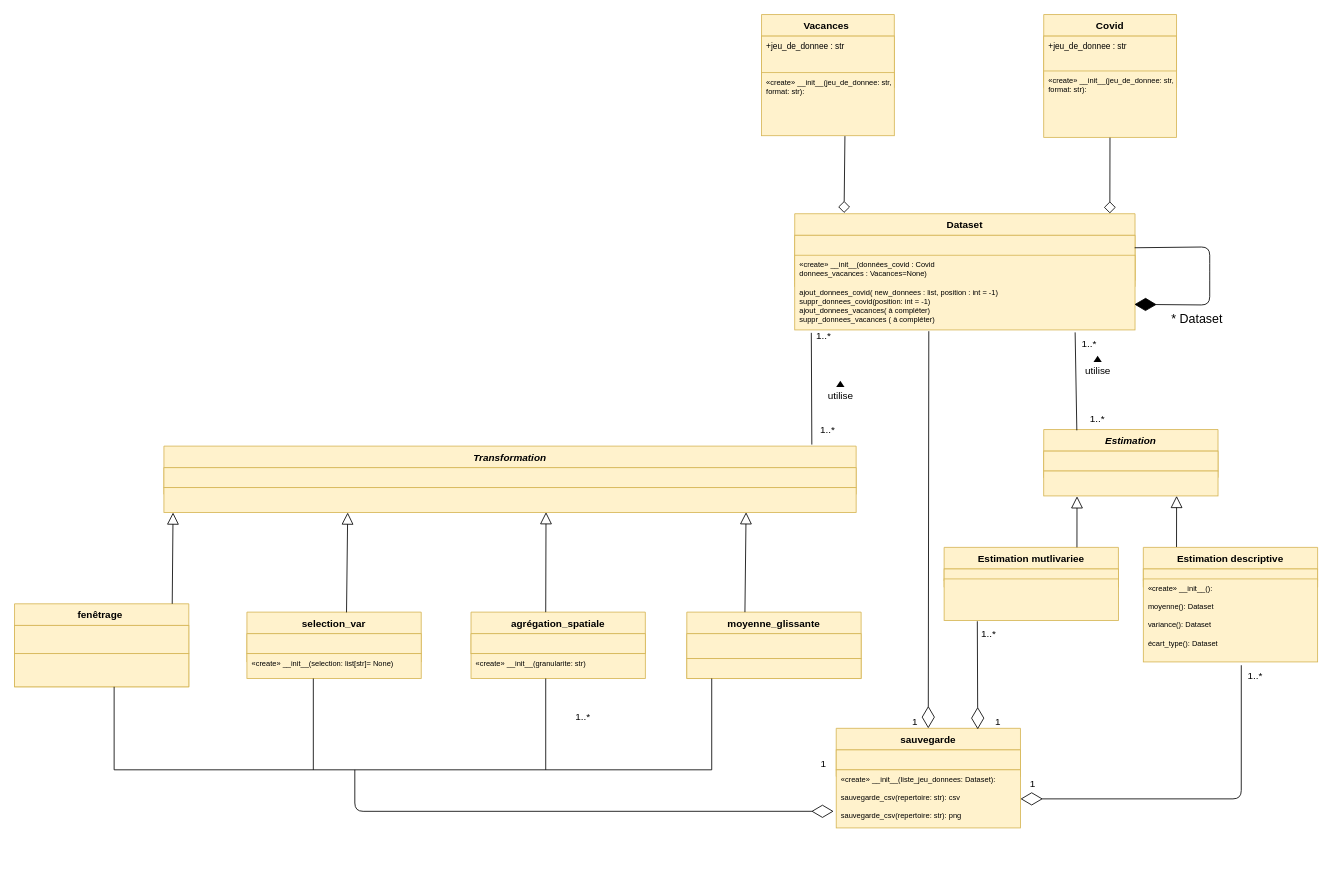
Some shapes in this 1332 by 870 pixel diagram are drawn without their labels. Each missing label, with the centre of its shape:
+granularite : str: the point at 557,643
+liste_jeu_donnees: Dataset: the point at 927,759
+plage : int +plage_txt : str: the point at 101,639
+selection : list[str]: the point at 333,643
+time : int: the point at 773,646
«create» __init__(): the point at 509,500
«create» __init__():: the point at 1130,483
«create» __init__(): Kmeans(k:int): Dataset: the point at 1030,599
«create» __init__(plage: int = None, plage_txt: str= None): the point at 101,670
«create» __init__(time: int): the point at 773,668
